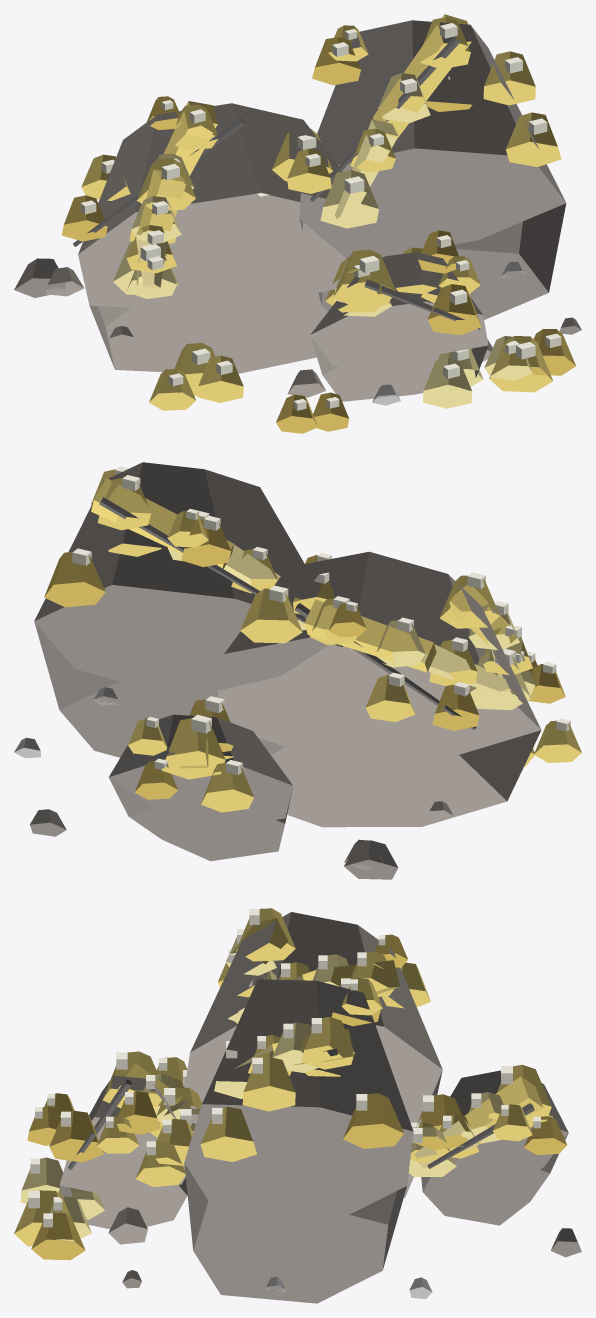
File: gold_2.glb
3 renders of one model, top to bottom at view 1: azimuth 30°, elevation 25°; view 2: azimuth 150°, elevation 25°; view 3: azimuth 270°, elevation 25°, orthographic.
Visible parts, largest first — view 1: Boulder#2, Boulder#4, Boulder, Boulder#6, Boulder#3, Boulder#5, Vein#5, Nugget#20, Nugget#23, Nugget#22, Nugget#17, Nugget#50 (+38 smaller); view 2: Boulder#4, Boulder#2, Boulder, Boulder#8, Boulder#3, Boulder#7, Vein, Nugget#32, Nugget#13, Nugget#19, Vein#5, Nugget#40 (+23 smaller); view 3: Boulder#4, Boulder#3, Boulder#2, Boulder#8, Boulder#6, Boulder#7, Boulder#5, Nugget#19, Nugget#20, Nugget#22, Nugget#28, Nugget#46 (+34 smaller).
Part boxes in pixels (left/top/right/bottom): Boulder#2: left=78, top=103, right=346, bottom=311; Boulder#4: left=299, top=20, right=565, bottom=258; Boulder: left=89, top=293, right=327, bottom=373; Boulder#6: left=310, top=252, right=488, bottom=366; Boulder#3: left=299, top=203, right=566, bottom=319; Boulder#5: left=310, top=335, right=488, bottom=401; Vein#5: left=373, top=14, right=471, bottom=138; Nugget#20: left=505, top=112, right=561, bottom=166; Nugget#23: left=333, top=249, right=395, bottom=307; Nugget#22: left=483, top=51, right=535, bottom=105; Nugget#17: left=320, top=170, right=378, bottom=228; Nugget#50: left=489, top=336, right=552, bottom=392; Boulder#4: left=34, top=462, right=328, bottom=698; Boulder#2: left=217, top=551, right=541, bottom=760; Boulder: left=258, top=730, right=541, bottom=827; Boulder#8: left=109, top=714, right=293, bottom=829; Boulder#3: left=34, top=622, right=342, bottom=757; Boulder#7: left=109, top=778, right=291, bottom=861; Vein: left=304, top=599, right=436, bottom=672; Nugget#32: left=162, top=718, right=225, bottom=779; Nugget#13: left=240, top=588, right=302, bottom=643; Nugget#19: left=44, top=552, right=105, bottom=607; Vein#5: left=91, top=478, right=233, bottom=568; Nugget#40: left=201, top=763, right=254, bottom=812; Boulder#4: left=184, top=979, right=413, bottom=1224; Boulder#3: left=184, top=1163, right=406, bottom=1303; Boulder#2: left=180, top=912, right=442, bottom=1125; Boulder#8: left=439, top=1070, right=568, bottom=1193; Boulder#6: left=60, top=1075, right=185, bottom=1198; Boulder#7: left=421, top=1133, right=568, bottom=1225; Boulder#5: left=59, top=1178, right=187, bottom=1232; Nugget#19: left=343, top=1093, right=403, bottom=1148; Nugget#20: left=200, top=1106, right=256, bottom=1161; Nugget#22: left=242, top=1056, right=295, bottom=1111; Nugget#28: left=49, top=1110, right=103, bottom=1162; Nugget#46: left=31, top=1212, right=85, bottom=1260.
Bounding box in the file's own units: 2.58 × 1.29 × 2.66.
